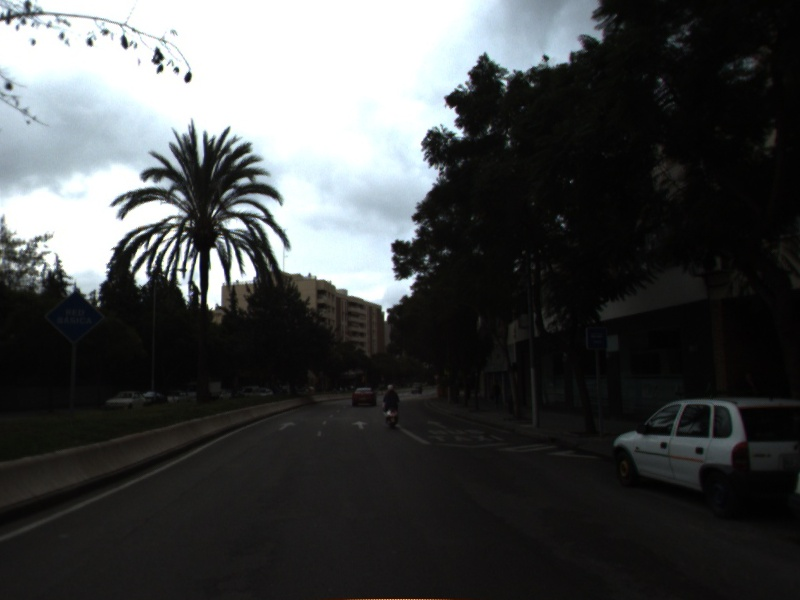STRAIGHT: (425, 418, 450, 431), (276, 419, 298, 432), (350, 419, 369, 431)
